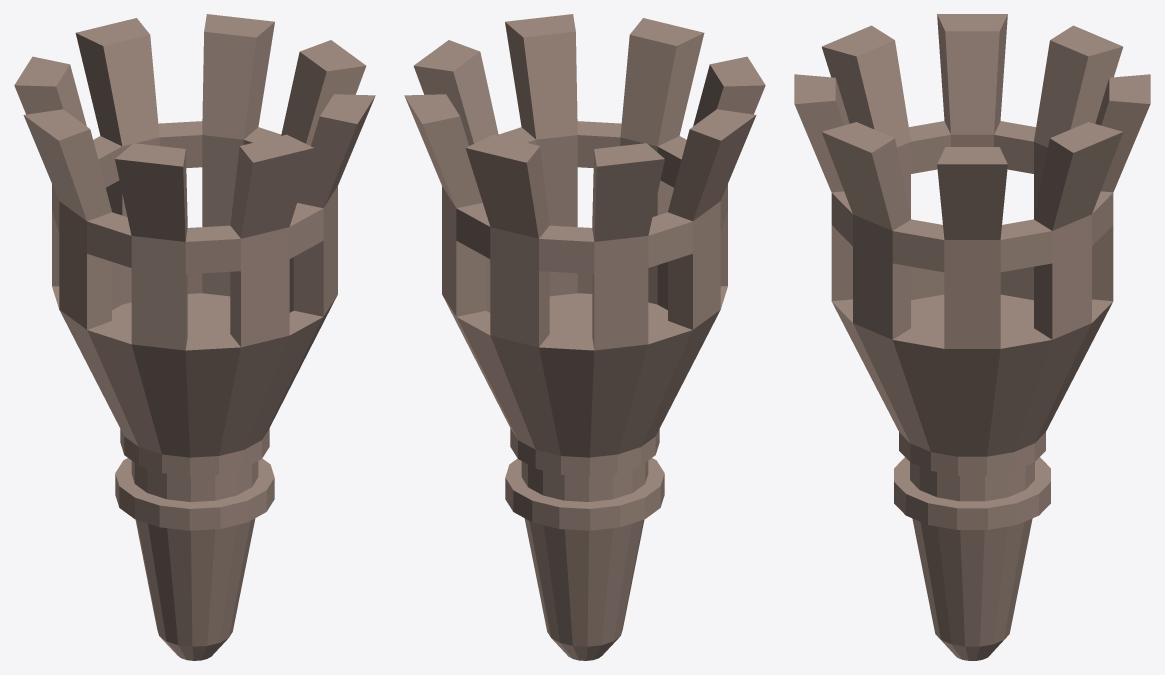
File: AntorchaDeSalida.fbx
3 renders of one model, left to right at view 1: azimuth 30°, elevation 25°; view 2: azimuth 150°, elevation 25°; view 3: azimuth 270°, elevation 25°, orthographic.
Visible parts, largest first — view 1: TorchHead; view 2: TorchHead; view 3: TorchHead.
Part boxes in pixels (<box>): TorchHead: <box>14,14,375,660</box>; TorchHead: <box>404,14,765,660</box>; TorchHead: <box>794,14,1150,660</box>.
Size of the model in its own units: 2.48 by 4.33 by 2.48.
